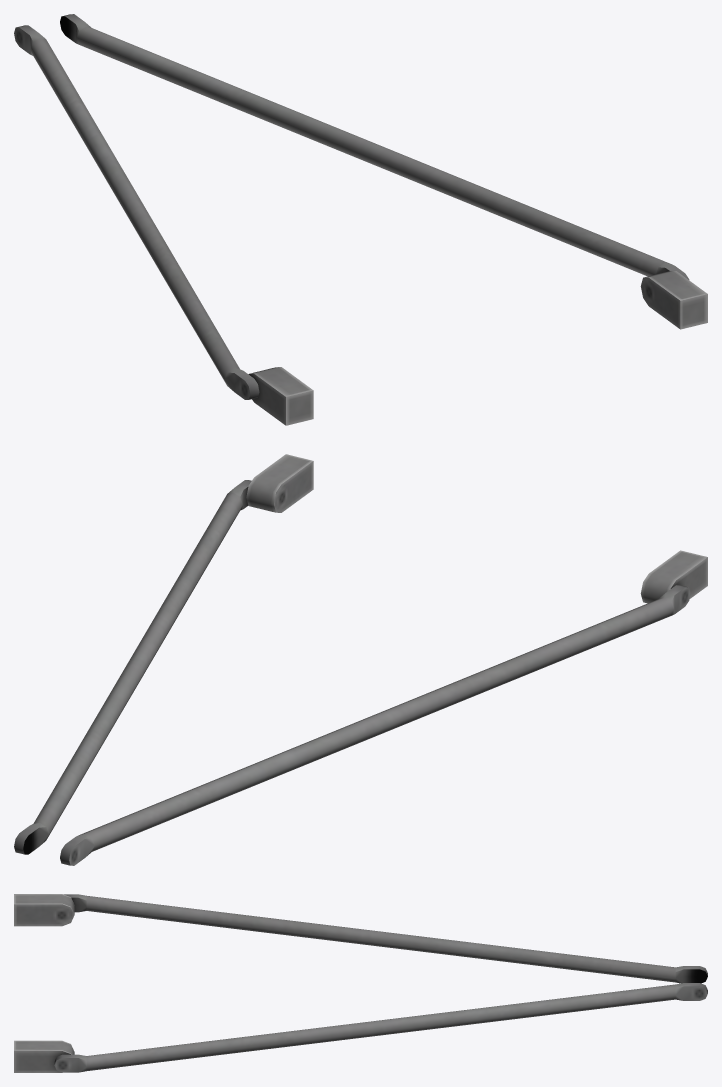
File: rcs_arm.obj
The picture shows the model from 3 angles, top to bottom: view 1: azimuth 30°, elevation 25°; view 2: azimuth 150°, elevation 25°; view 3: azimuth 270°, elevation 25°; orthographic projection. The views are drawn at different scales.
Visible parts, largest first — view 1: 1; view 2: 1; view 3: 1.
Boxes of the visible parts, x1,y1,x2,y2 form: 1: [14, 14, 707, 425]; 1: [14, 454, 707, 865]; 1: [14, 894, 707, 1072].
Bounding box in the file's own units: 0.6125 × 0.0375 × 1.08.
Materials: 1 (1 with a texture image).
